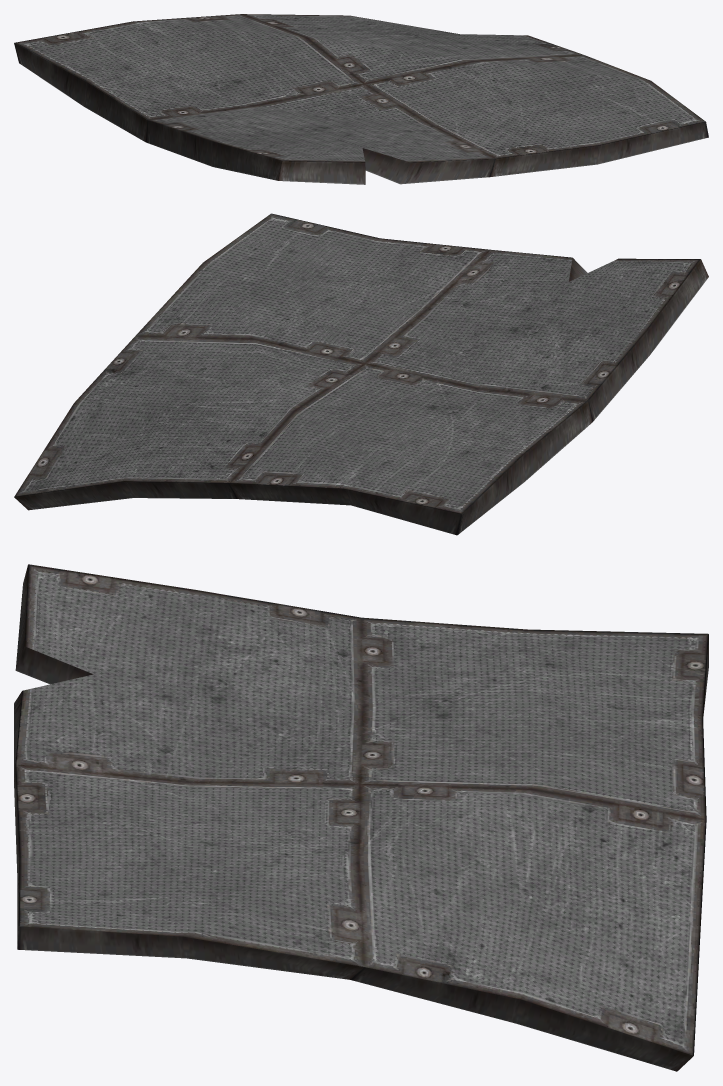
The model's file is pplant_first_floor_damaged03.dae.
The picture shows the model from 3 angles, top to bottom: view 1: azimuth 30°, elevation 25°; view 2: azimuth 150°, elevation 25°; view 3: azimuth 270°, elevation 25°; orthographic projection. The views are drawn at different scales.
Parts seen in each view (by area): view 1: first_floor_damaged03; view 2: first_floor_damaged03; view 3: first_floor_damaged03.
Boxes of the visible parts, x1,y1,x2,y2 form: first_floor_damaged03: (14, 14, 708, 184); first_floor_damaged03: (14, 213, 708, 535); first_floor_damaged03: (14, 564, 708, 1071).
Bounding box in the file's own units: 2.04 × 0.7448 × 2.02.
